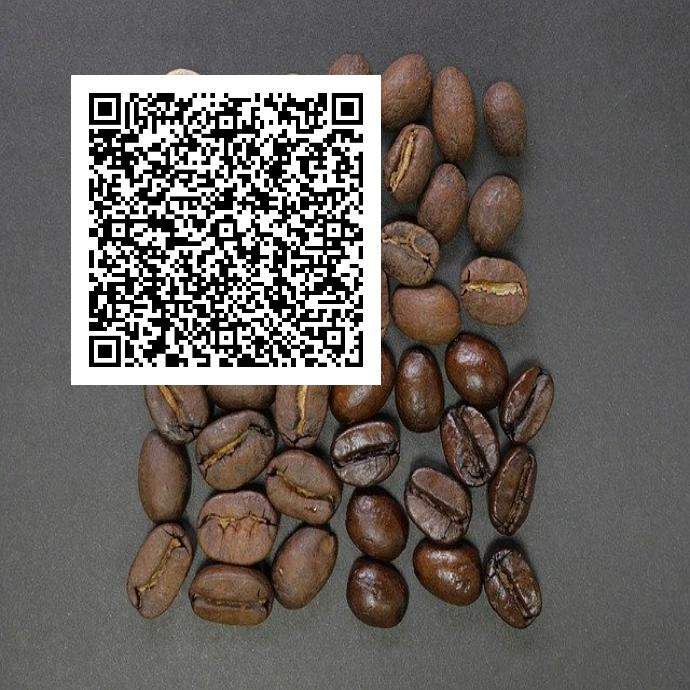qr_code: (71, 75, 380, 384)
